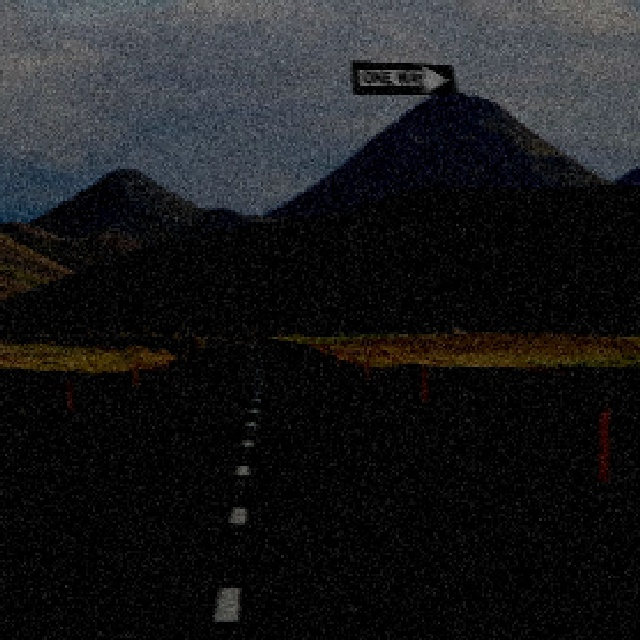ONE_WAY_ right: (349, 57, 456, 92)
